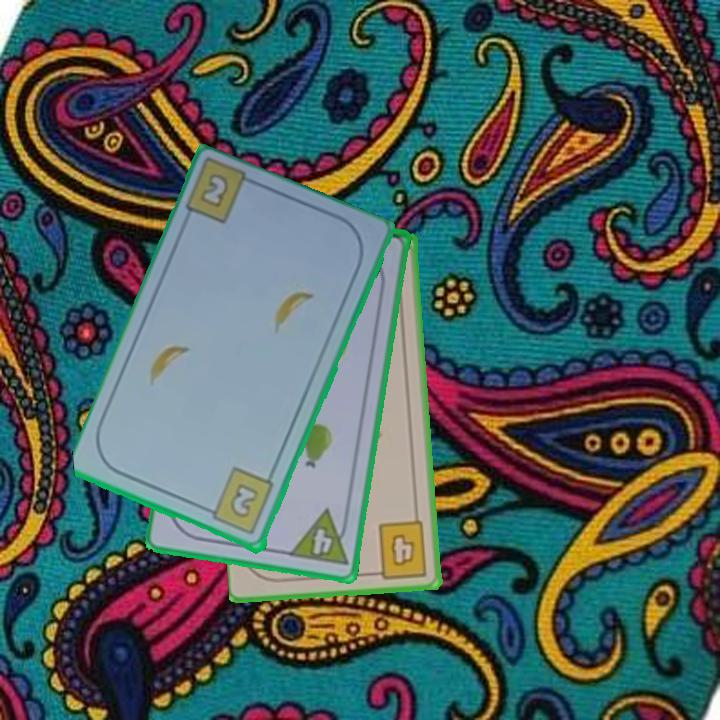2b: (201, 464, 277, 538), (196, 170, 232, 211)
4b: (368, 517, 430, 581)
4p: (286, 506, 353, 569)
